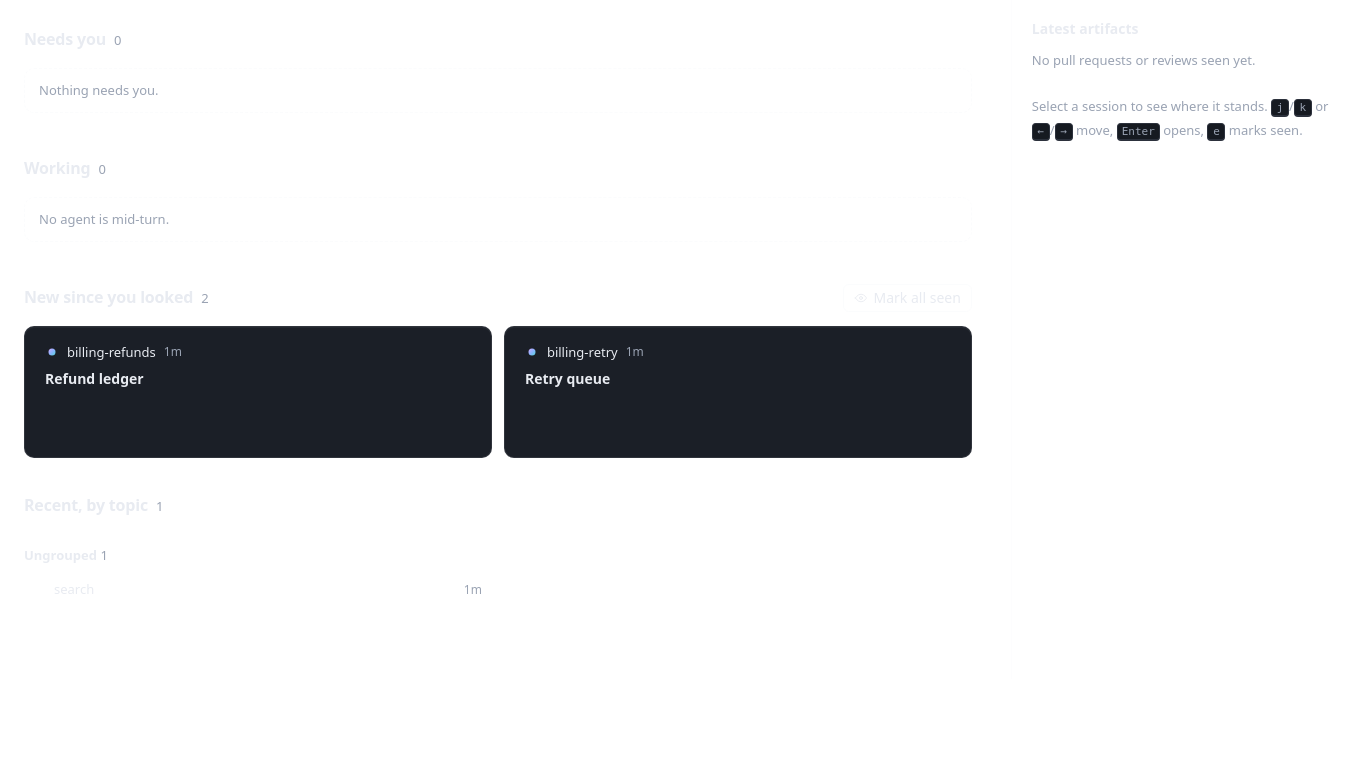
Overview details › lists other sessions on the same topic and selects one when picked
Click the button "billing-retry 1m Retry queue": click(582, 352) x1=504 y1=326 x2=972 y2=458
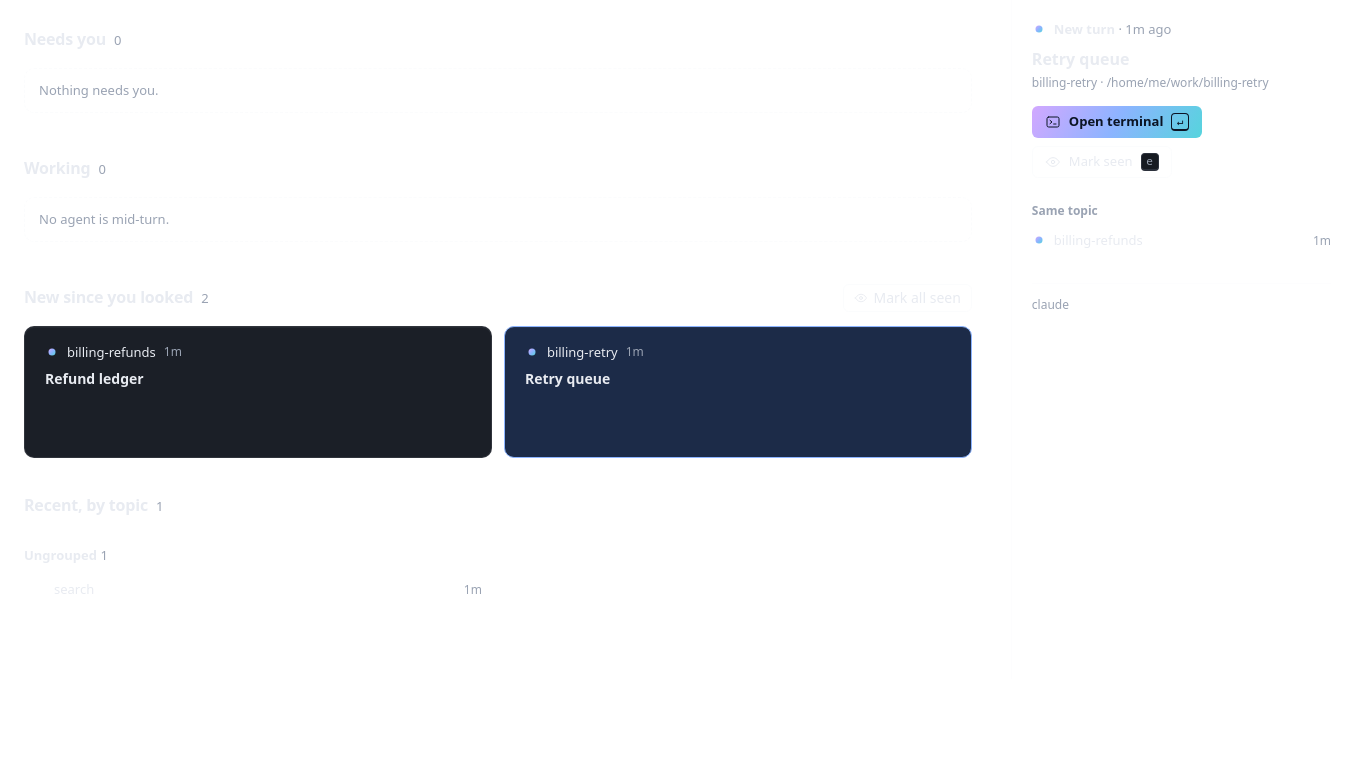
Click the button "billing-refunds 1m": click(1098, 240) x1=1024 y1=225 x2=1339 y2=255
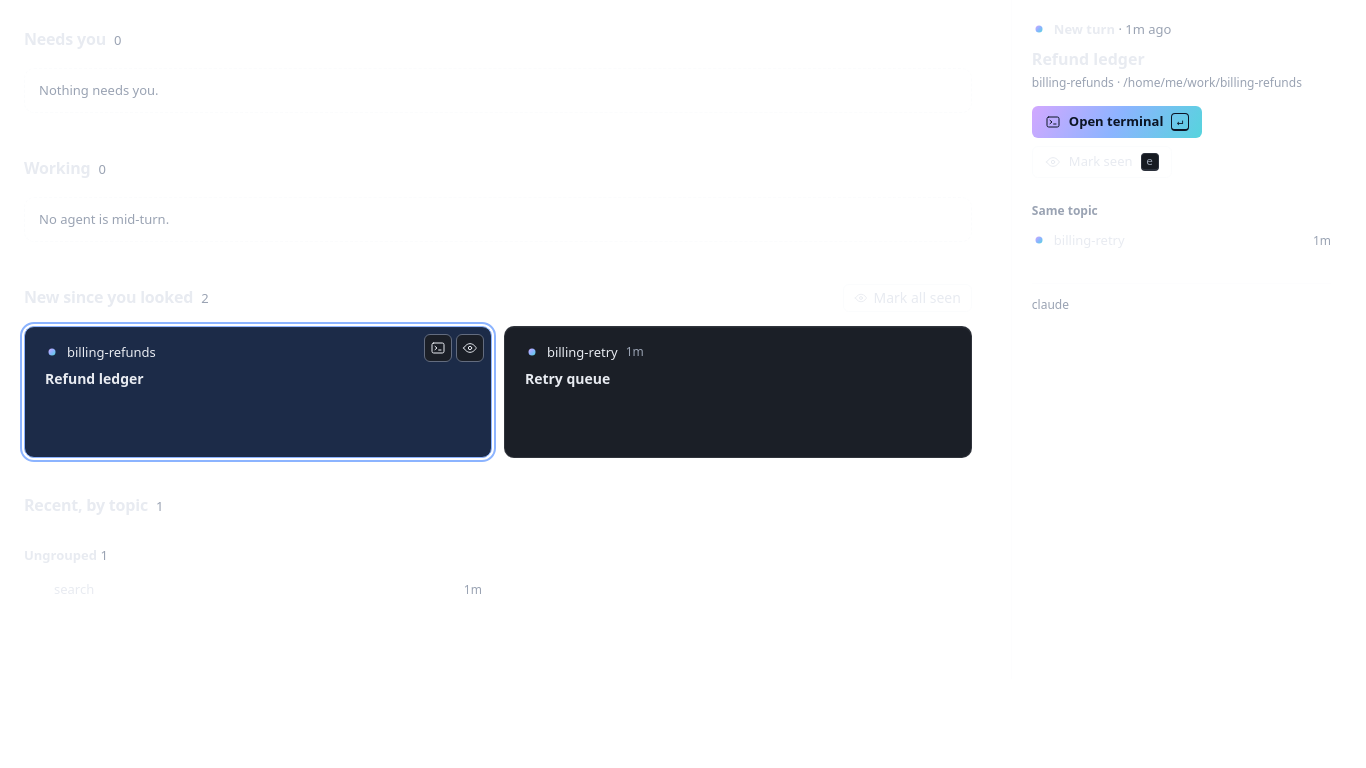
Expected: the element named "billing-refunds details" is shown, x1=1012 y1=0 x2=1351 y2=354
